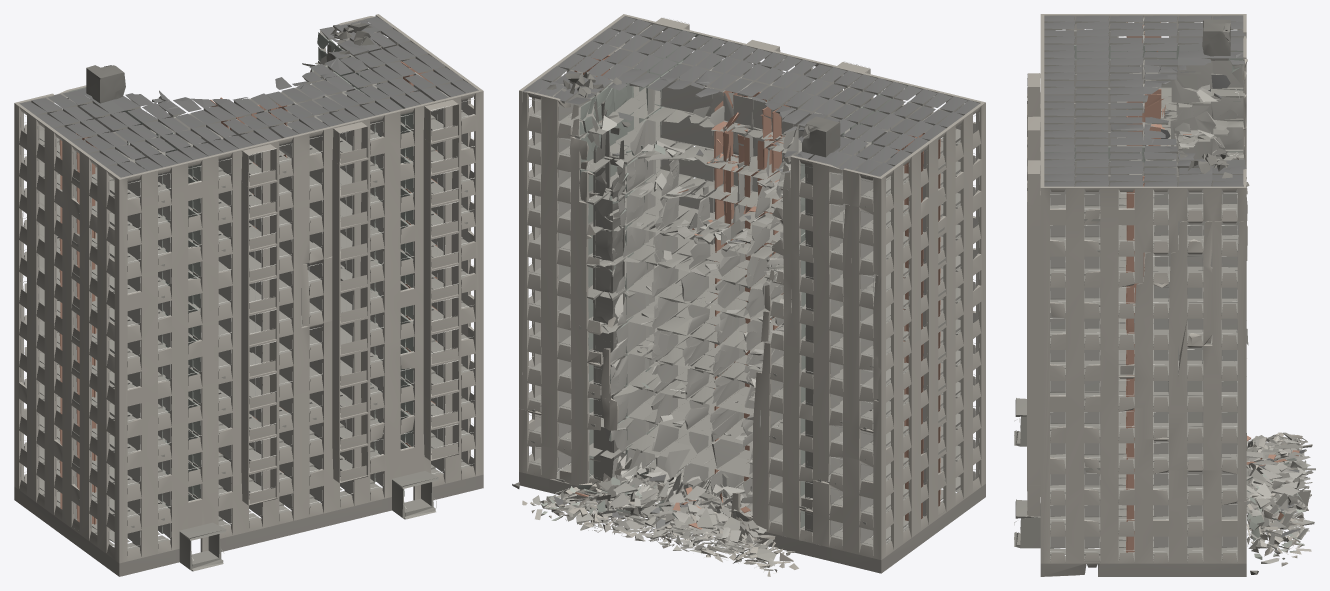
File: b4_ruin_lod1.glb
The picture shows the model from 3 angles, left to right: view 1: azimuth 30°, elevation 25°; view 2: azimuth 150°, elevation 25°; view 3: azimuth 270°, elevation 25°; orthographic projection. The views are drawn at different scales.
Visible parts, largest first — view 1: b4_lod1__facade_panel, b4_lod1__roof, b4_lod1__wall_room, b4_lod1__slab_top, b4_lod1__window_frame, b4_lod1__stairwell_wall, b4_lod1__plinth, b4_lod1__slab_edge, b4_lod1__monolith, b4_lod1__concrete; view 2: b4_lod1__facade_panel, b4_lod1__wall_room, b4_lod1__slab_top, b4_lod1__roof, b4_lod1__concrete, b4_lod1__slab_edge, b4_lod1__stairwell_wall, b4_lod1__slab_under, b4_lod1__plinth, b4_lod1__window_frame; view 3: b4_lod1__facade_panel, b4_lod1__wall_room, b4_lod1__roof, b4_lod1__slab_top, b4_lod1__slab_edge, b4_lod1__window_frame, b4_lod1__concrete, b4_lod1__plinth, b4_lod1__slab_under, b4_lod1__monolith, b4_lod1__stairwell_wall.
Part boxes in pixels (<box>): b4_lod1__facade_panel: <box>14,14,483,563</box>; b4_lod1__roof: <box>19,16,478,177</box>; b4_lod1__wall_room: <box>20,15,473,546</box>; b4_lod1__slab_top: <box>26,55,473,550</box>; b4_lod1__window_frame: <box>20,97,474,560</box>; b4_lod1__stairwell_wall: <box>69,32,413,545</box>; b4_lod1__plinth: <box>14,474,483,576</box>; b4_lod1__slab_edge: <box>19,25,474,547</box>; b4_lod1__monolith: <box>179,471,438,571</box>; b4_lod1__concrete: <box>86,22,374,112</box>; b4_lod1__facade_panel: <box>519,14,985,576</box>; b4_lod1__wall_room: <box>522,16,980,569</box>; b4_lod1__slab_top: <box>528,66,973,570</box>; b4_lod1__roof: <box>523,16,979,528</box>; b4_lod1__concrete: <box>512,71,840,539</box>; b4_lod1__slab_edge: <box>527,20,966,570</box>; b4_lod1__stairwell_wall: <box>541,28,915,527</box>; b4_lod1__slab_under: <box>532,94,794,559</box>; b4_lod1__plinth: <box>519,472,985,573</box>; b4_lod1__window_frame: <box>527,20,979,573</box>; b4_lod1__facade_panel: <box>1027,14,1312,566</box>; b4_lod1__wall_room: <box>1040,15,1311,552</box>; b4_lod1__roof: <box>1044,15,1305,537</box>; b4_lod1__slab_top: <box>1050,65,1313,561</box>; b4_lod1__slab_edge: <box>1044,16,1314,563</box>; b4_lod1__window_frame: <box>1014,22,1300,554</box>; b4_lod1__concrete: <box>1180,19,1315,574</box>; b4_lod1__plinth: <box>1040,433,1246,576</box>; b4_lod1__slab_under: <box>1146,84,1313,563</box>; b4_lod1__monolith: <box>1014,398,1040,548</box>; b4_lod1__stairwell_wall: <box>1044,45,1305,559</box>.
Size of the model in its own units: 36.14 by 39.99 by 26.39.
